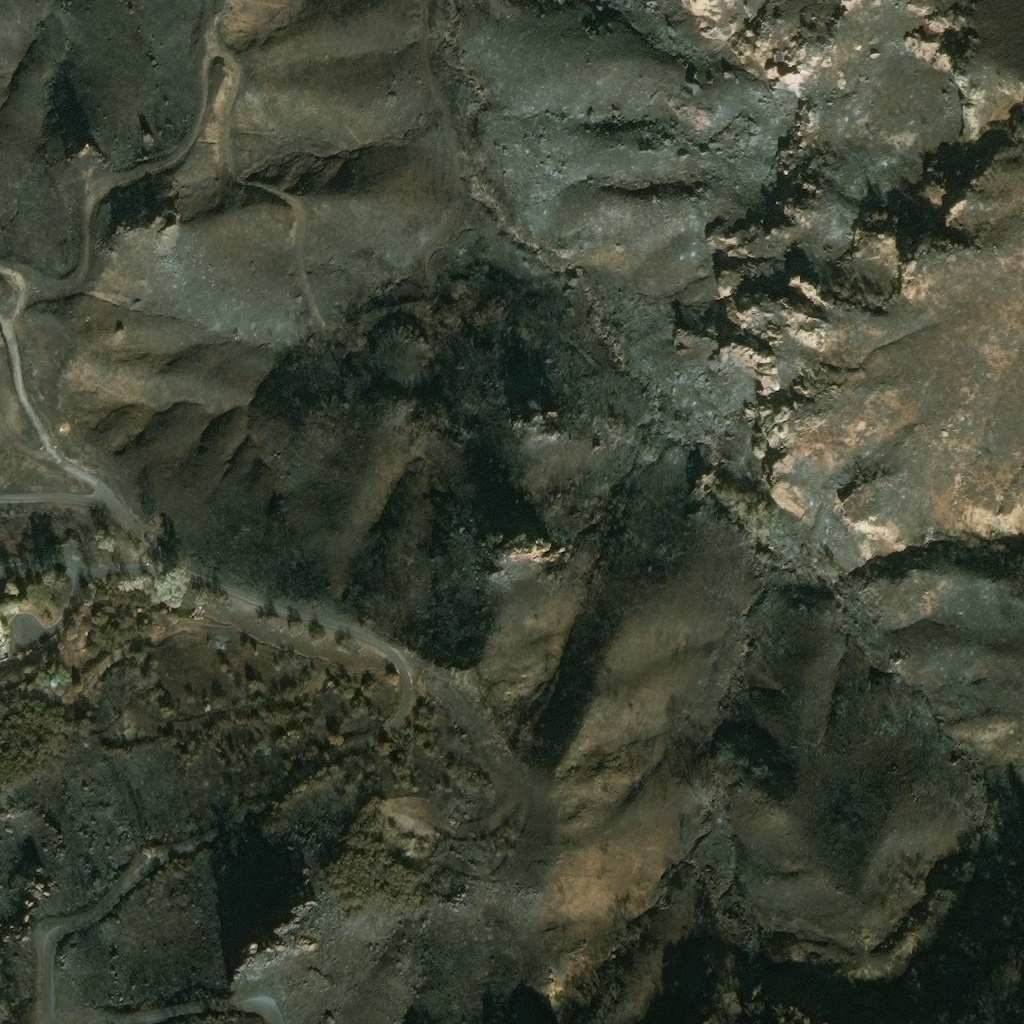0 no-damage: (52, 677, 59, 684)
3 destroyed: (0, 617, 13, 661)
